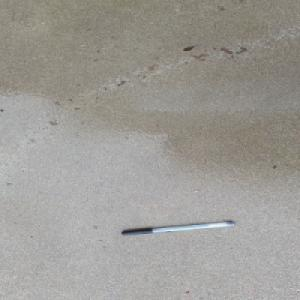Pen: (121, 220, 236, 235)
